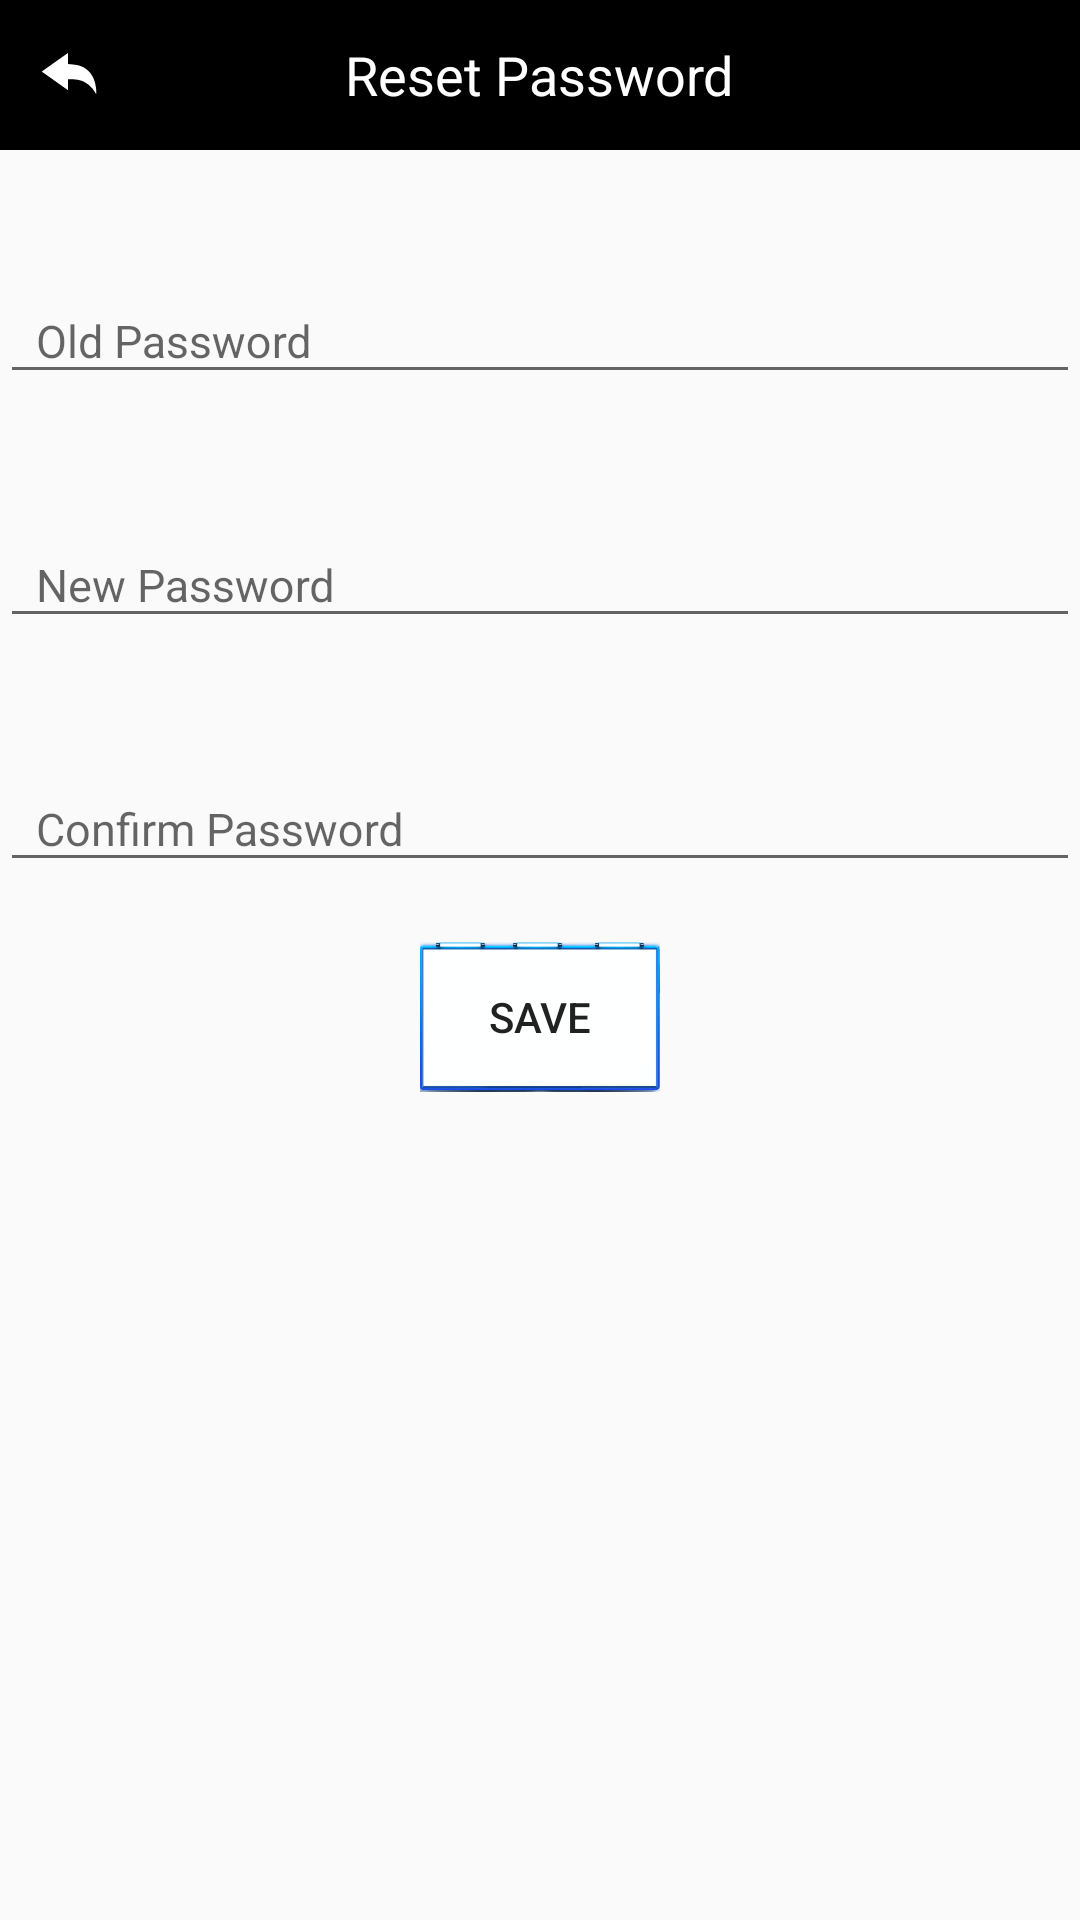

Screen size 1080x1920. Icon name, then its box in pixels as (x1, y1, x2, y2):
back: (42, 53, 97, 94)
